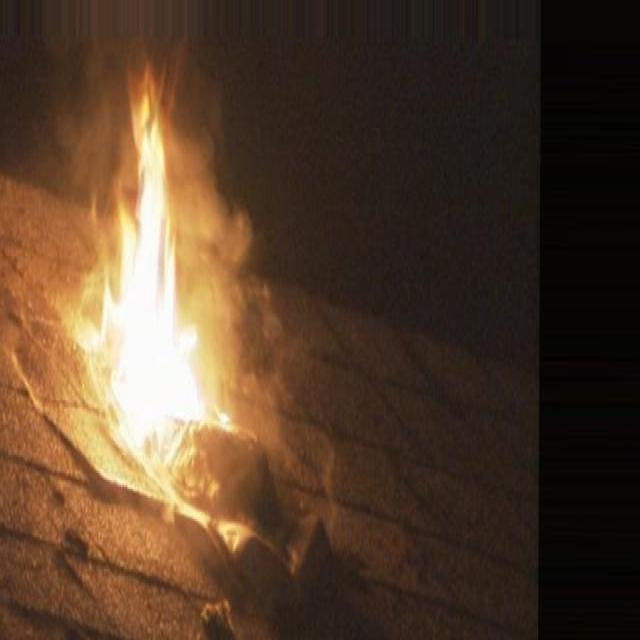Fire: (88, 71, 190, 427)
Smoke: (192, 103, 342, 537)
